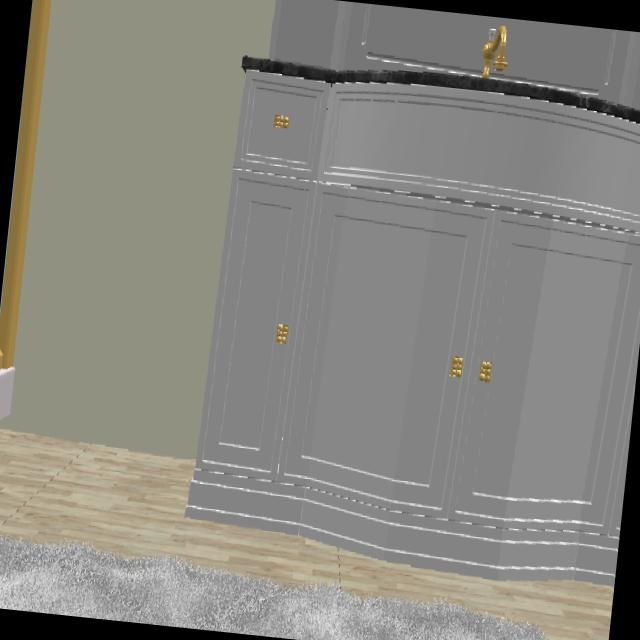cabinet: (186, 72, 640, 583)
countertop: (242, 57, 640, 125)
washbasin: (482, 27, 506, 78)
